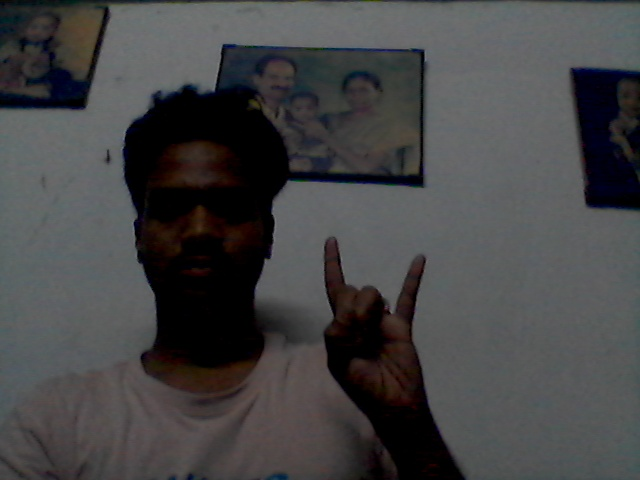I Love You: (321, 235, 432, 415)
